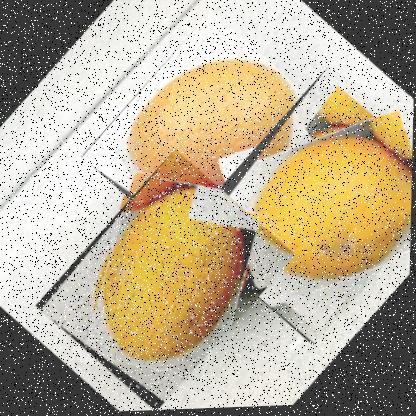orange: (30, 146, 298, 414), (178, 64, 414, 354), (78, 8, 327, 263)
